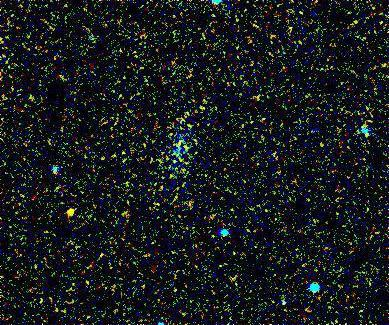star: (56, 197, 86, 227)
